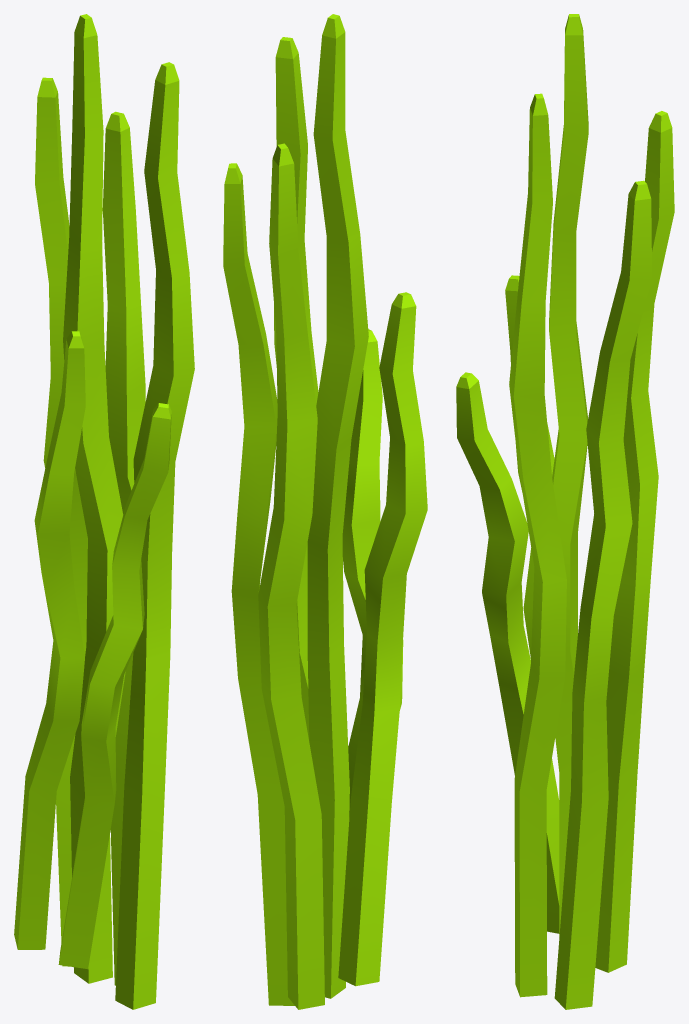
The model's file is seaweed1.gltf.
3 renders of one model, left to right at view 1: azimuth 30°, elevation 25°; view 2: azimuth 150°, elevation 25°; view 3: azimuth 270°, elevation 25°, orthographic. The views are drawn at different scales.
Bounding box in the file's own units: 1.27 × 7.45 × 1.53.
